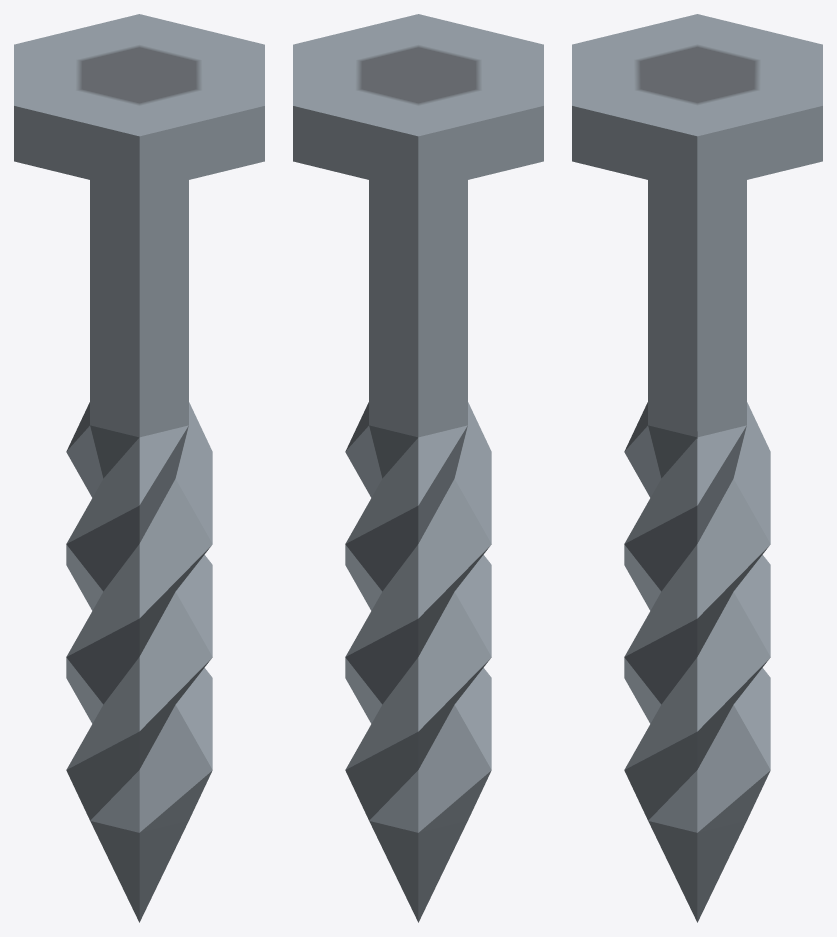
The model's file is SM_Item_Screw_02.fbx.
The picture shows the model from 3 angles, left to right: view 1: azimuth 30°, elevation 25°; view 2: azimuth 150°, elevation 25°; view 3: azimuth 270°, elevation 25°; orthographic projection.
Visible parts, largest first — view 1: SM_Item_Screw_02; view 2: SM_Item_Screw_02; view 3: SM_Item_Screw_02.
Boxes of the visible parts, x1,y1,x2,y2 form: SM_Item_Screw_02: (14,14,264,922); SM_Item_Screw_02: (293,14,543,922); SM_Item_Screw_02: (572,14,822,922).
Size of the model in its own units: 3.87 by 12.51 by 3.35.
